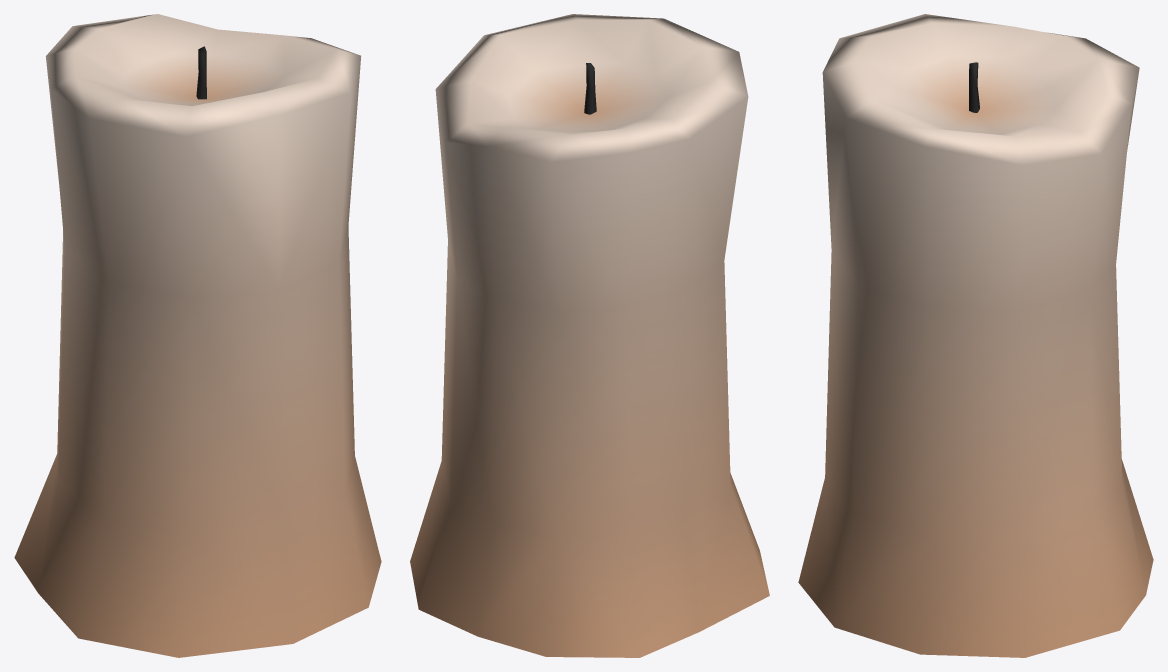
File: CandleBlock1.fbx
3 views of the same model, side by side, from view 1: azimuth 30°, elevation 25°; view 2: azimuth 150°, elevation 25°; view 3: azimuth 270°, elevation 25° (orthographic). The views are drawn at different scales.
Parts seen in each view (by area): view 1: CandleBlock1; view 2: CandleBlock1; view 3: CandleBlock1.
Part boxes in pixels (x1,y1,x2,y2): CandleBlock1: (14, 14, 381, 657); CandleBlock1: (410, 14, 769, 657); CandleBlock1: (798, 14, 1153, 657).
Bounding box in the file's own units: 10.18 × 16.5 × 10.19.
